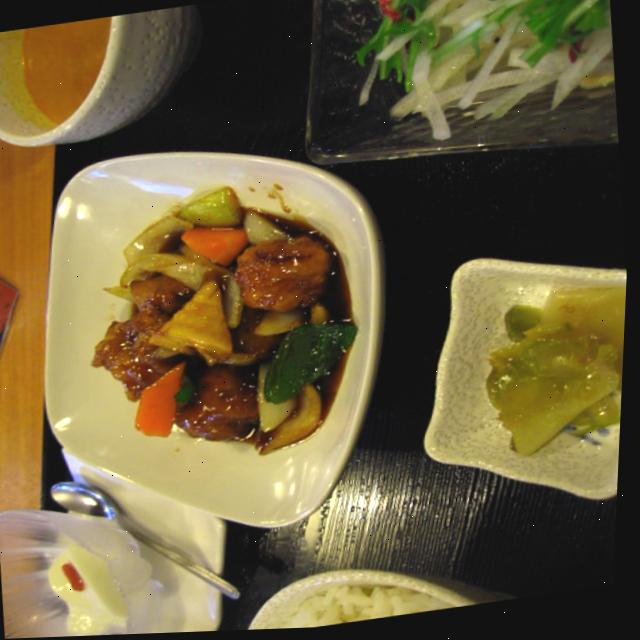猪肉菜式: (69, 170, 378, 480)
